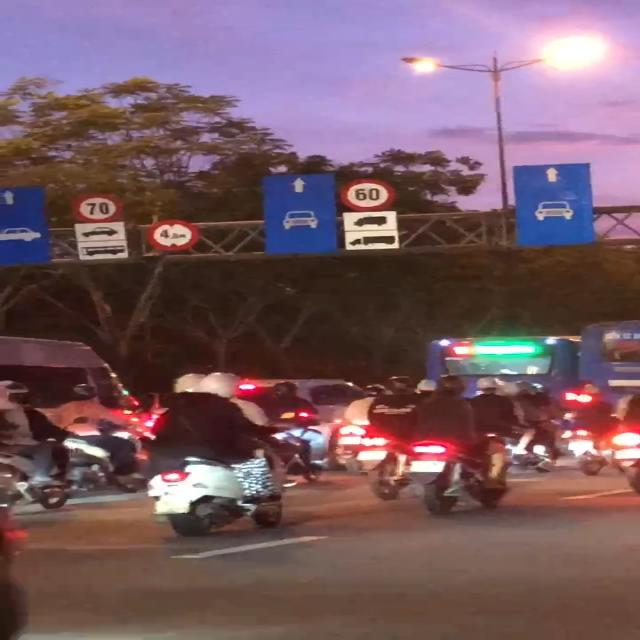Bien bao toc do toi da cho phep: (337, 177, 396, 213), (71, 193, 130, 226)
